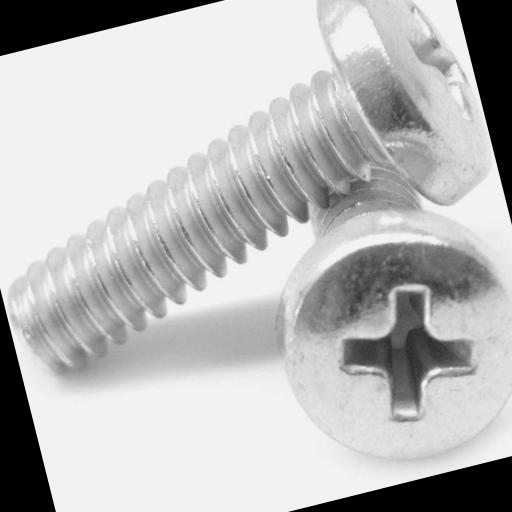Phillips: (259, 204, 512, 489)
